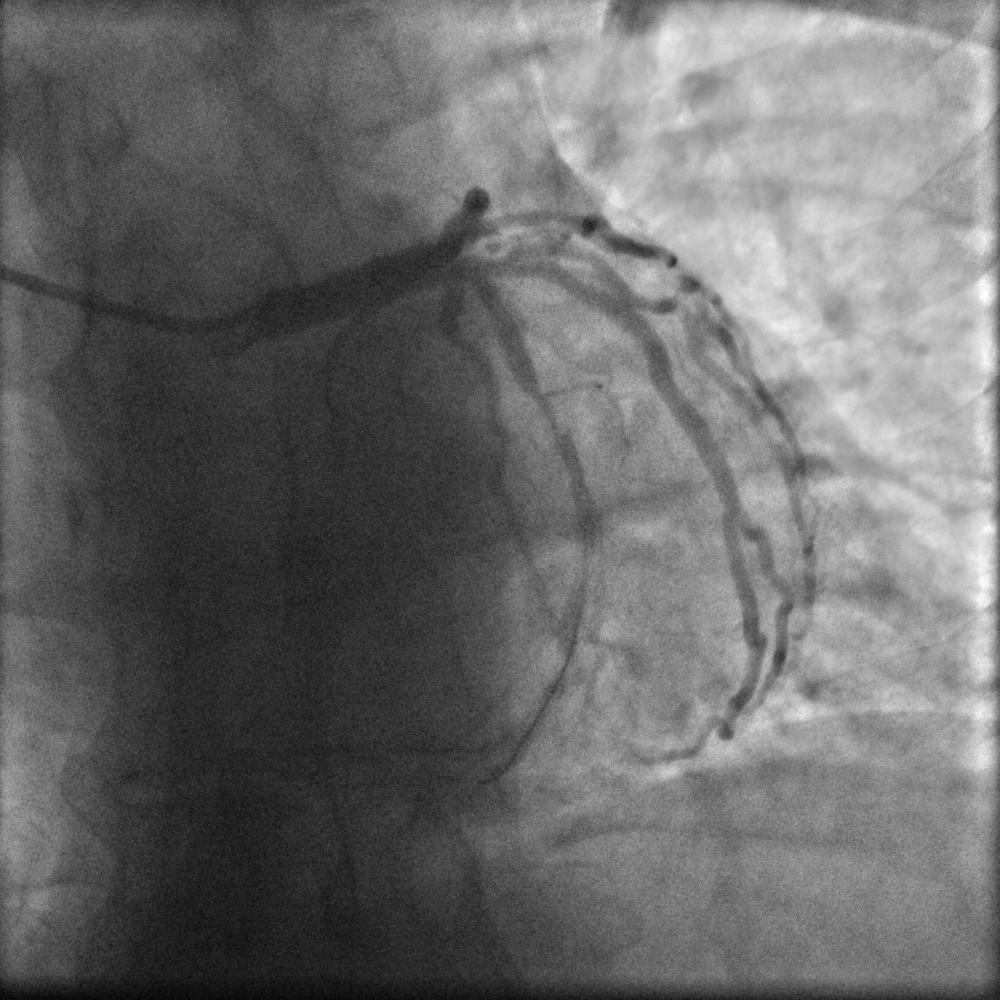Stenosis: (529, 381, 563, 442)
